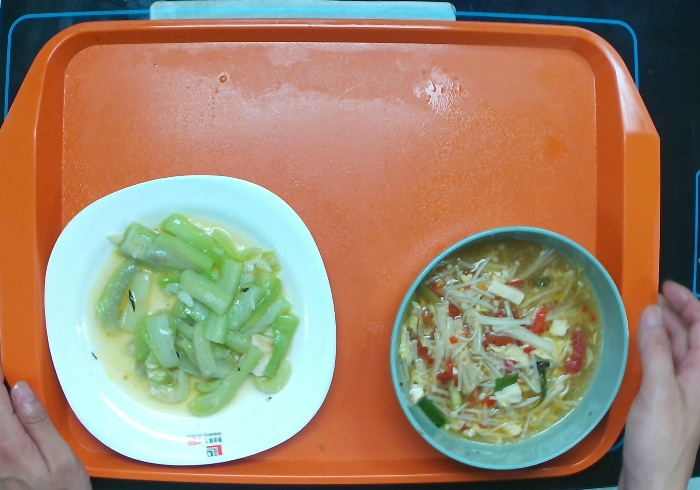ZNLD-Qing_Hua_Yuan_Wan: (386, 223, 635, 474)
ZNLD-Yuan_Jiao_Pan: (37, 172, 341, 468)
